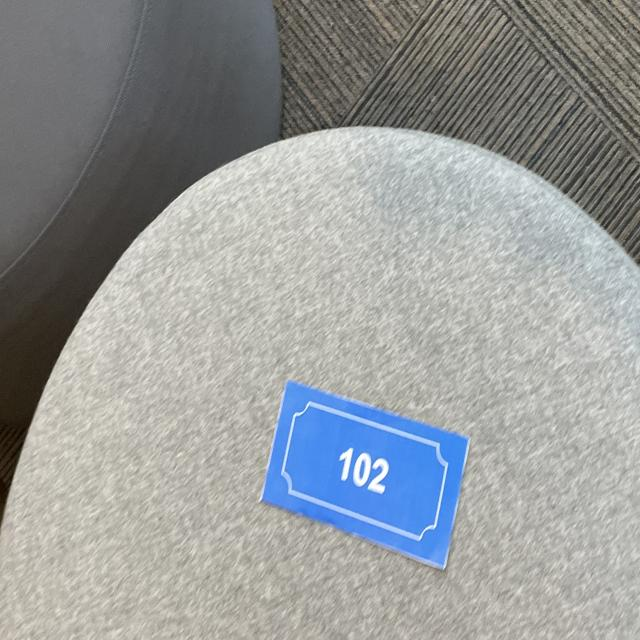Card: (245, 352, 476, 588)
